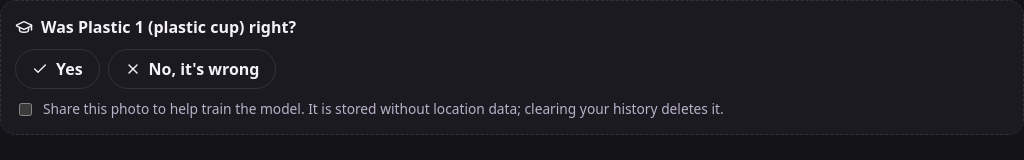
Test: sends the photo only after the share box is ticked
This screenshot has width=1024, height=160.
Click the checkbox labelled "Share this photo". click: x=26, y=110
box: [19,103,32,116]
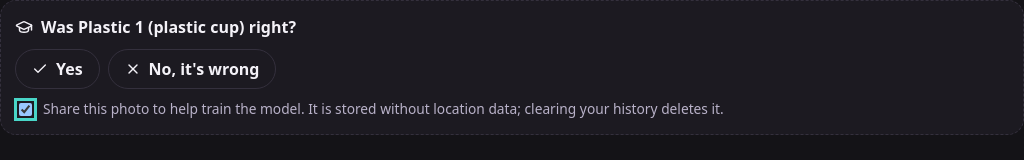
Click the button "No, it's wrong". click: x=192, y=69
box: [108,49,276,89]
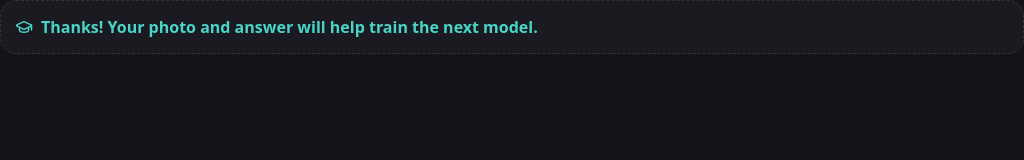
Result: the text "Thanks! Your photo and answer will help train the next model." is shown at [0,0,1023,54]
